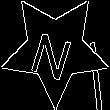N_N: (29, 19, 81, 80)
